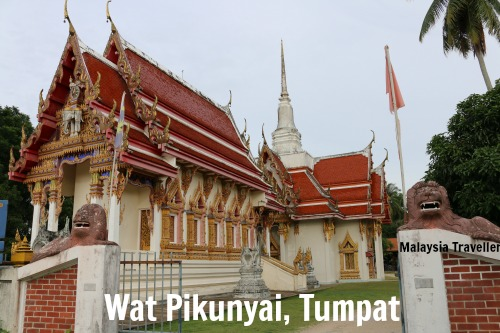Buddhist Temple: (18, 11, 380, 285)
